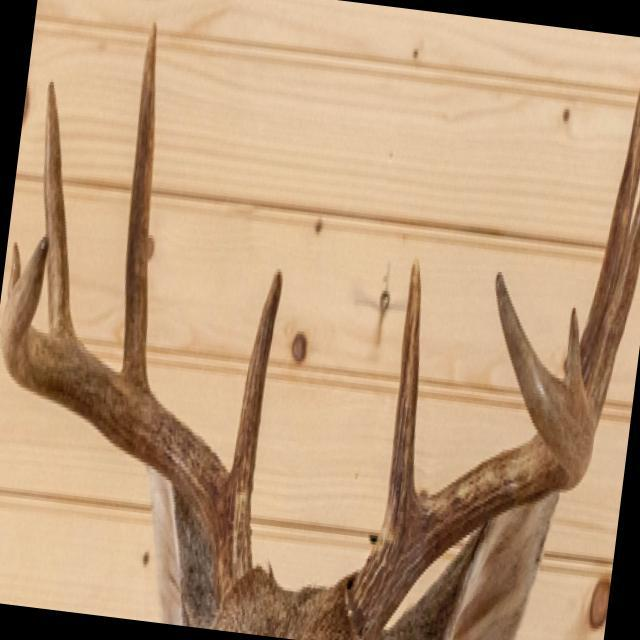L-F: (346, 268, 597, 640)
L-G1: (381, 257, 428, 529)
R-F: (1, 234, 256, 600)
R-G1: (228, 265, 284, 534)
R-G2: (118, 16, 159, 393)
